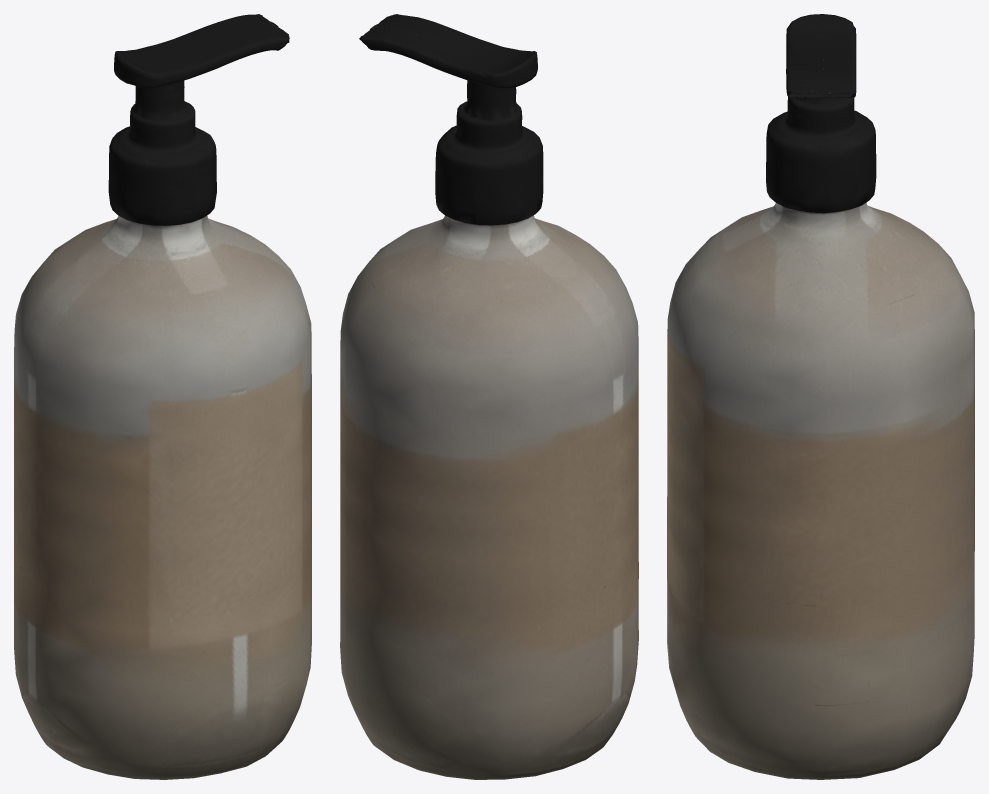
File: SoapDispenser.fbx
The picture shows the model from 3 angles, left to right: view 1: azimuth 30°, elevation 25°; view 2: azimuth 150°, elevation 25°; view 3: azimuth 270°, elevation 25°; orthographic projection. The views are drawn at different scales.
Visible parts, largest first — view 1: Mesh_0; view 2: Mesh_0; view 3: Mesh_0.
Part boxes in pixels (x1,y1,x2,y2): Mesh_0: [14, 14, 311, 779]; Mesh_0: [340, 14, 638, 779]; Mesh_0: [667, 14, 974, 779].
Bounding box in the file's own units: 76.15 × 190 × 76.1.
Materials: 1 (1 with a texture image).
